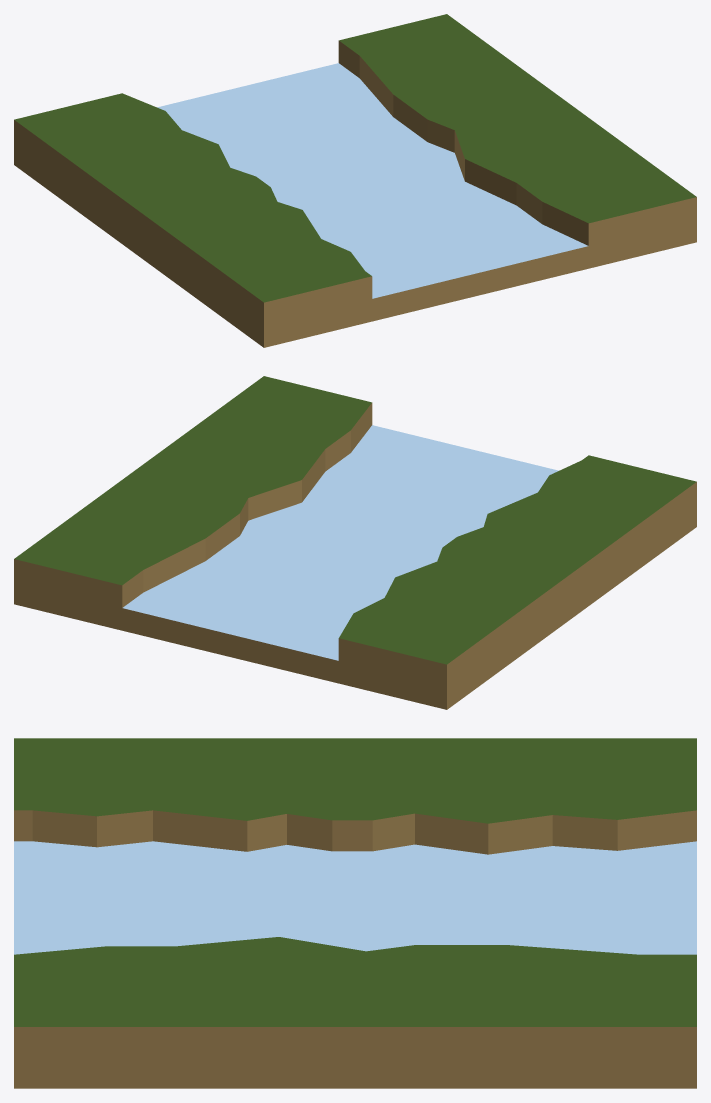
Rendered from Terrain_Modular_Tiles_Grass_Dirt_River_Straight_03.fbx.
3 views of the same model, one above another, from view 1: azimuth 30°, elevation 25°; view 2: azimuth 150°, elevation 25°; view 3: azimuth 270°, elevation 25° (orthographic). The views are drawn at different scales.
Visible parts, largest first — view 1: Terrain_Modular_Tiles_Grass_Dirt_River_Straight_03; view 2: Terrain_Modular_Tiles_Grass_Dirt_River_Straight_03; view 3: Terrain_Modular_Tiles_Grass_Dirt_River_Straight_03.
Part boxes in pixels (x1,y1,x2,y2): Terrain_Modular_Tiles_Grass_Dirt_River_Straight_03: [14, 14, 696, 347]; Terrain_Modular_Tiles_Grass_Dirt_River_Straight_03: [14, 376, 696, 709]; Terrain_Modular_Tiles_Grass_Dirt_River_Straight_03: [14, 738, 696, 1088].
Bounding box in the file's own units: 3000 × 300 × 3000.
